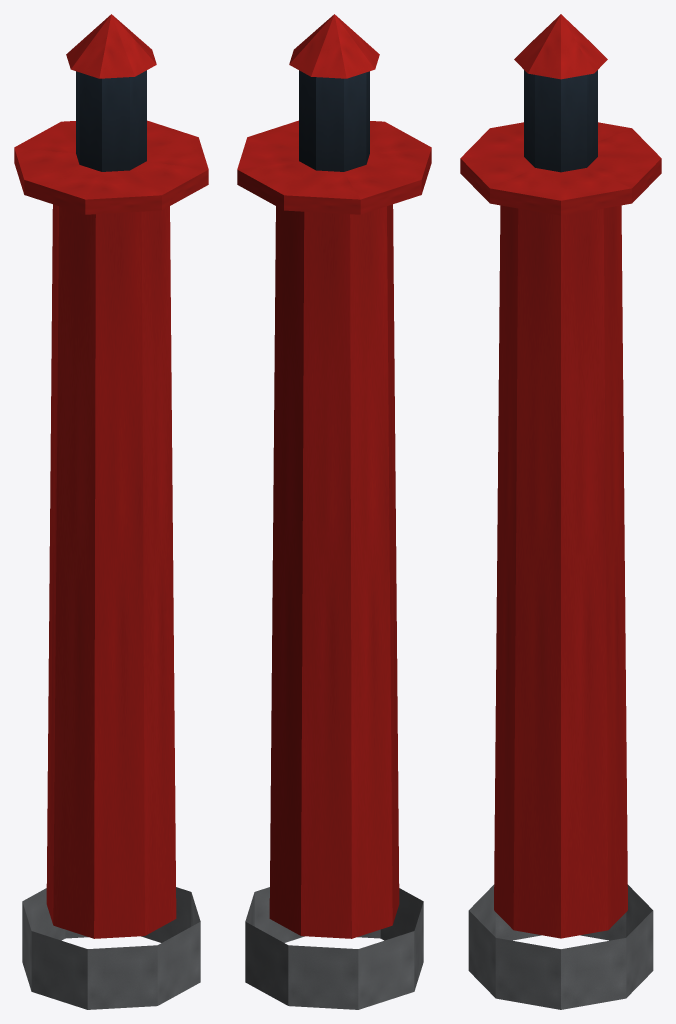
Rendered from SM_Mirabello_Fanale_LOD1.fbx.
The picture shows the model from 3 angles, left to right: view 1: azimuth 30°, elevation 25°; view 2: azimuth 150°, elevation 25°; view 3: azimuth 270°, elevation 25°; orthographic projection.
Parts seen in each view (by area): view 1: SM_Mirabello_Fanale_LOD1; view 2: SM_Mirabello_Fanale_LOD1; view 3: SM_Mirabello_Fanale_LOD1.
Part boxes in pixels (x1,y1,x2,y2): SM_Mirabello_Fanale_LOD1: (14,14,208,1009); SM_Mirabello_Fanale_LOD1: (237,14,431,1009); SM_Mirabello_Fanale_LOD1: (460,14,661,1009).
Size of the model in its own units: 120 by 120 by 630.
1 material, 1 textured.
